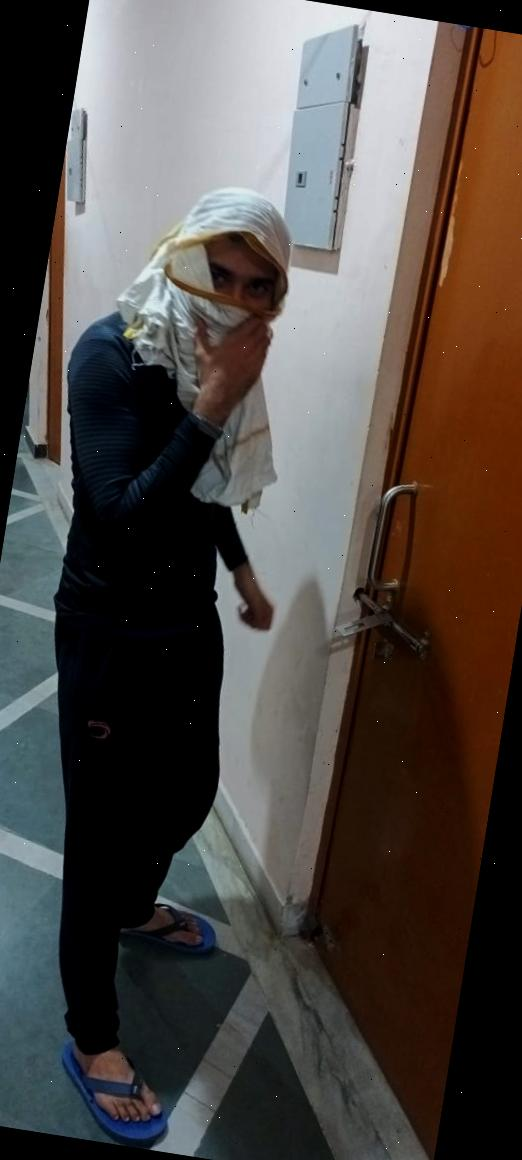suspicion: (0, 123, 397, 1160)
